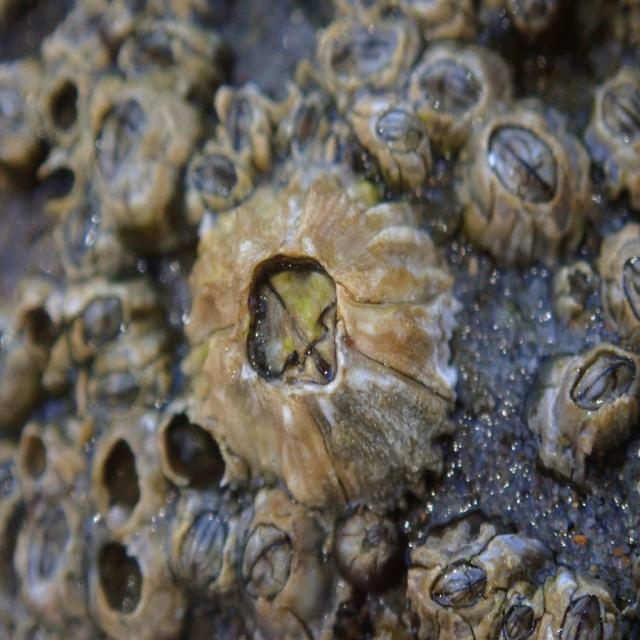barnacles: (194, 176, 445, 509), (84, 73, 192, 259), (466, 117, 598, 260), (412, 521, 542, 640), (544, 341, 640, 468), (85, 525, 186, 640), (158, 388, 253, 504), (244, 511, 331, 637), (63, 275, 171, 368), (412, 40, 508, 136), (165, 499, 240, 616), (11, 512, 90, 623), (82, 421, 163, 524), (9, 273, 68, 392), (351, 92, 429, 174), (210, 73, 275, 164), (542, 567, 620, 640), (12, 414, 74, 505), (38, 59, 95, 150), (334, 511, 396, 579), (279, 88, 333, 164), (498, 592, 541, 640)
